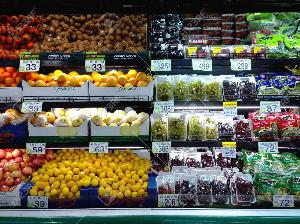apple: (0, 149, 44, 199), (8, 162, 19, 172)
grape: (174, 146, 250, 210), (152, 108, 218, 140), (154, 71, 222, 101), (150, 144, 176, 208), (223, 68, 257, 102), (218, 110, 251, 142)
grapes: (187, 114, 206, 141), (221, 75, 239, 101), (157, 176, 175, 197), (189, 81, 207, 101), (218, 122, 234, 136)
kiwi: (42, 14, 150, 64), (63, 43, 72, 49)
lemon: (31, 149, 149, 205), (51, 184, 59, 190)
orange: (24, 64, 89, 102), (89, 65, 153, 101), (0, 64, 22, 102), (106, 76, 117, 87), (4, 78, 15, 87), (36, 74, 46, 82)
pear: (30, 106, 148, 136), (71, 117, 84, 127)
persimmon: (0, 15, 42, 63), (13, 36, 21, 44)
plum: (150, 12, 182, 58), (167, 44, 185, 59)
strawberry: (182, 13, 260, 59), (209, 45, 233, 58)
